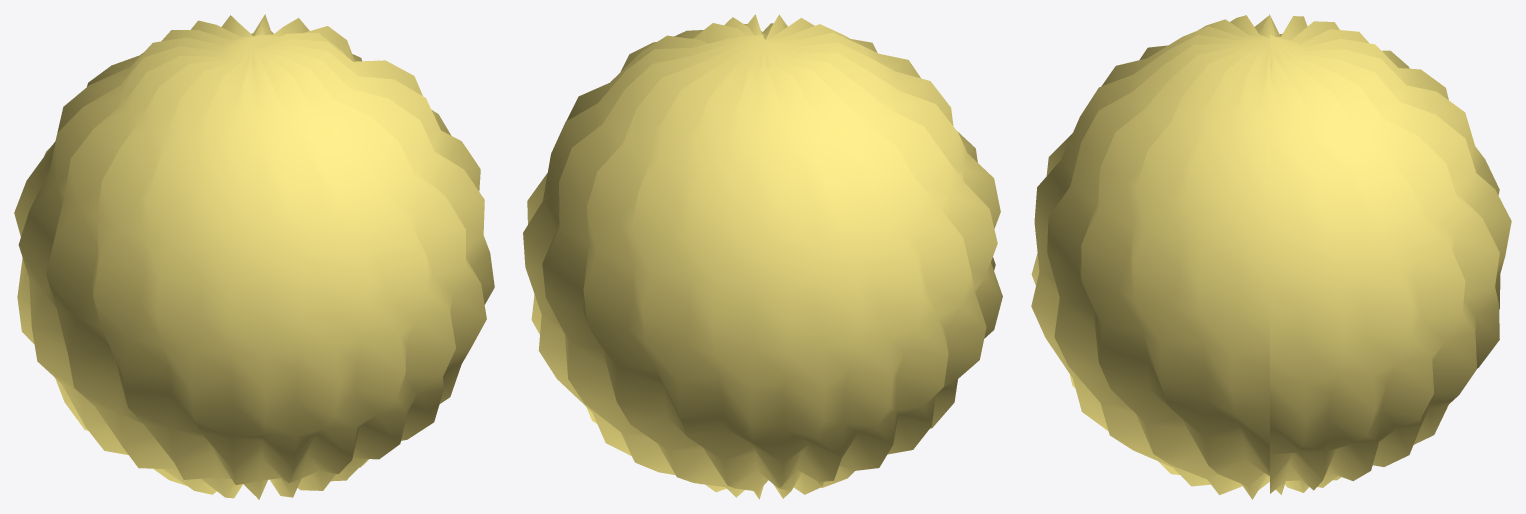
File: joy.glb
3 renders of one model, left to right at view 1: azimuth 30°, elevation 25°; view 2: azimuth 150°, elevation 25°; view 3: azimuth 270°, elevation 25°, orthographic.
Size of the model in its own units: 2.12 by 2.16 by 2.12.
